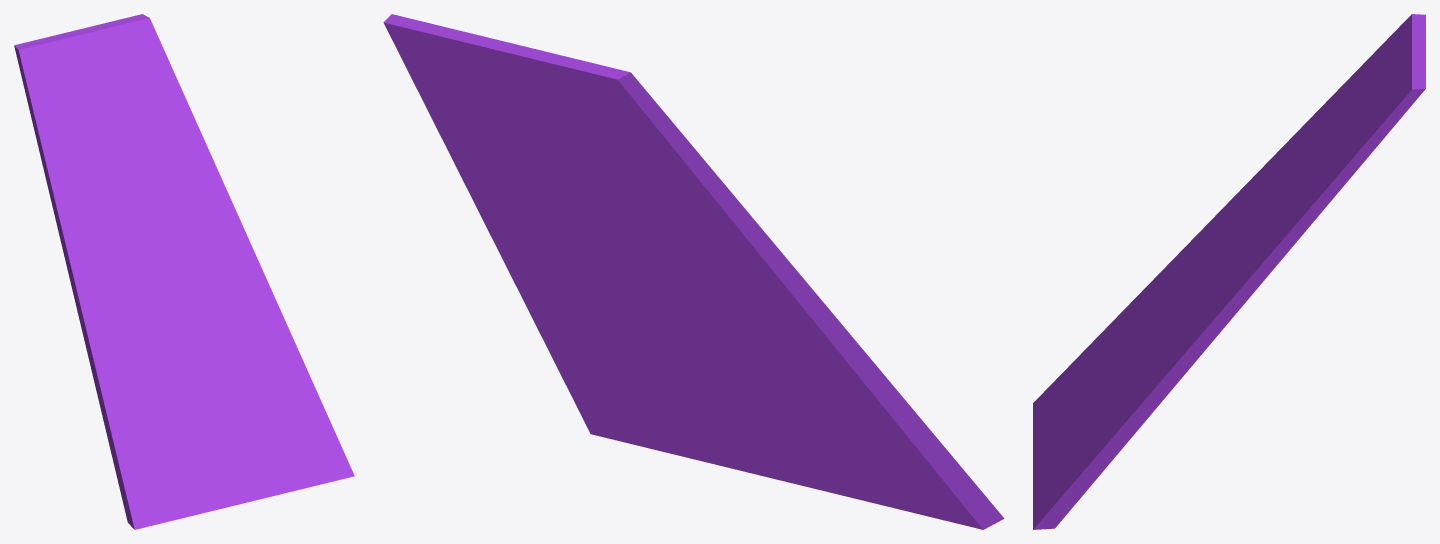
Rendered from Window_89.fbx.
3 renders of one model, left to right at view 1: azimuth 30°, elevation 25°; view 2: azimuth 150°, elevation 25°; view 3: azimuth 270°, elevation 25°, orthographic. The views are drawn at different scales.
Parts seen in each view (by area): view 1: Window_89; view 2: Window_89; view 3: Window_89.
Part boxes in pixels (x1,y1,x2,y2): Window_89: (14, 14, 354, 529); Window_89: (383, 14, 1004, 529); Window_89: (1033, 14, 1425, 529).
Bounding box in the file's own units: 629 × 960 × 824.
